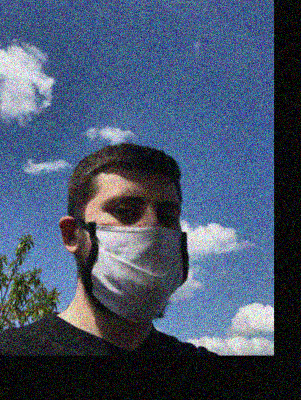with_mask: (86, 185, 189, 323)
